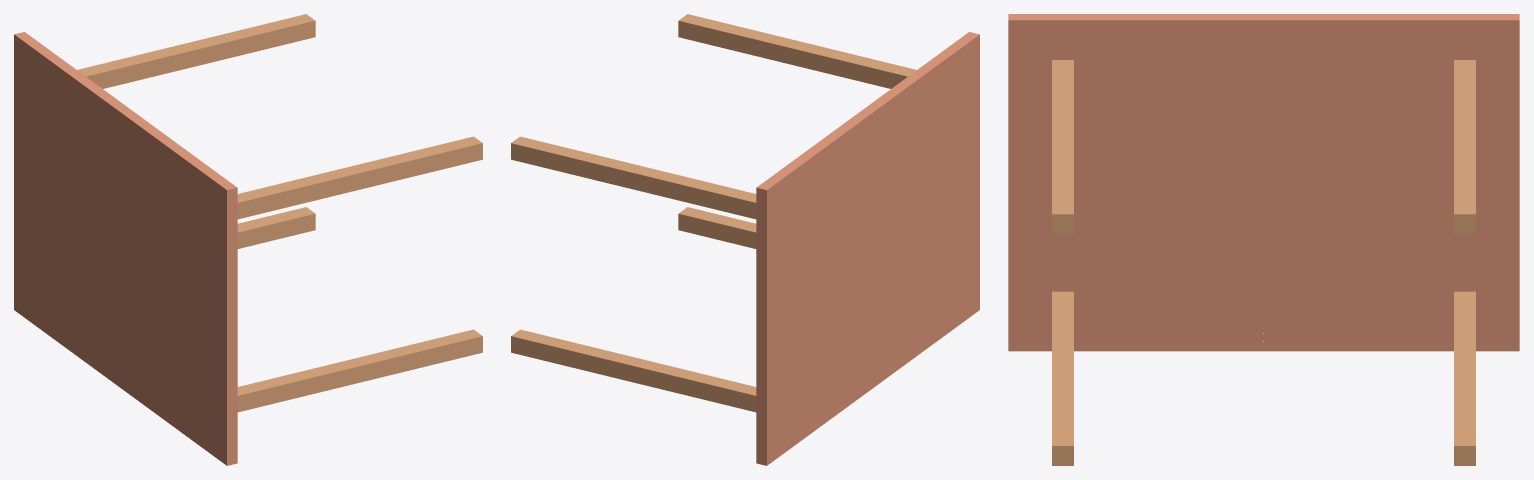
The model's file is table_old.DAE.
3 renders of one model, left to right at view 1: azimuth 30°, elevation 25°; view 2: azimuth 150°, elevation 25°; view 3: azimuth 270°, elevation 25°, orthographic. The views are drawn at different scales.
Parts seen in each view (by area): view 1: stitch_result_stitchFBXASC032all-Pivot, stitch_result_stitchFBXASC032all_ncl1_4-Pivot, stitch_result_stitchFBXASC032all_ncl1_3-Pivot, stitch_result_stitchFBXASC032all_ncl1_2-Pivot, stitch_result_stitchFBXASC032all_ncl1_1-Pivot; view 2: stitch_result_stitchFBXASC032all-Pivot, stitch_result_stitchFBXASC032all_ncl1_1-Pivot, stitch_result_stitchFBXASC032all_ncl1_2-Pivot, stitch_result_stitchFBXASC032all_ncl1_3-Pivot, stitch_result_stitchFBXASC032all_ncl1_4-Pivot; view 3: stitch_result_stitchFBXASC032all-Pivot, stitch_result_stitchFBXASC032all_ncl1_1-Pivot, stitch_result_stitchFBXASC032all_ncl1_2-Pivot, stitch_result_stitchFBXASC032all_ncl1_3-Pivot, stitch_result_stitchFBXASC032all_ncl1_4-Pivot.
Part boxes in pixels (x1,y1,x2,y2): stitch_result_stitchFBXASC032all-Pivot: (14, 32, 237, 465); stitch_result_stitchFBXASC032all_ncl1_4-Pivot: (237, 329, 482, 412); stitch_result_stitchFBXASC032all_ncl1_3-Pivot: (237, 136, 482, 219); stitch_result_stitchFBXASC032all_ncl1_2-Pivot: (77, 14, 315, 88); stitch_result_stitchFBXASC032all_ncl1_1-Pivot: (237, 207, 315, 248); stitch_result_stitchFBXASC032all-Pivot: (756, 32, 979, 465); stitch_result_stitchFBXASC032all_ncl1_1-Pivot: (511, 329, 756, 412); stitch_result_stitchFBXASC032all_ncl1_2-Pivot: (511, 136, 756, 219); stitch_result_stitchFBXASC032all_ncl1_3-Pivot: (678, 14, 916, 88); stitch_result_stitchFBXASC032all_ncl1_4-Pivot: (678, 207, 756, 248); stitch_result_stitchFBXASC032all-Pivot: (1008, 14, 1519, 351); stitch_result_stitchFBXASC032all_ncl1_1-Pivot: (1454, 291, 1475, 465); stitch_result_stitchFBXASC032all_ncl1_2-Pivot: (1454, 60, 1475, 234); stitch_result_stitchFBXASC032all_ncl1_3-Pivot: (1052, 60, 1073, 234); stitch_result_stitchFBXASC032all_ncl1_4-Pivot: (1052, 291, 1073, 465).
Bounding box in the file's own units: 0.52 × 0.7 × 0.5.
